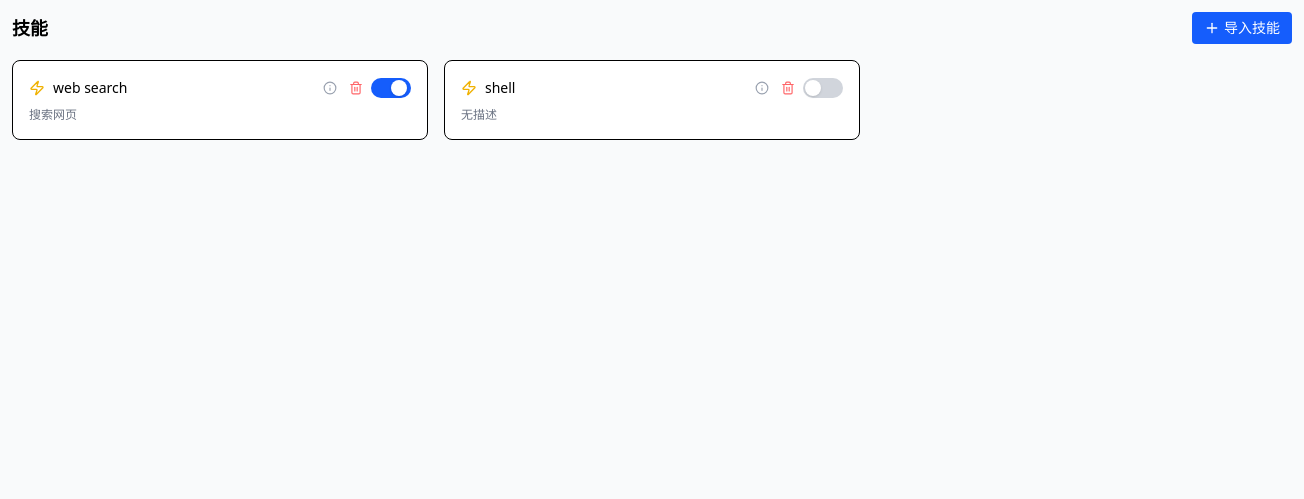
Skills 页 › 路径为空时导入按钮不可点
This screenshot has width=1304, height=499.
What coordinates should you click on to do the following:
click the button "导入技能"
I would click on:
 (1242, 28)
Its box is 1192,12 -> 1292,44.
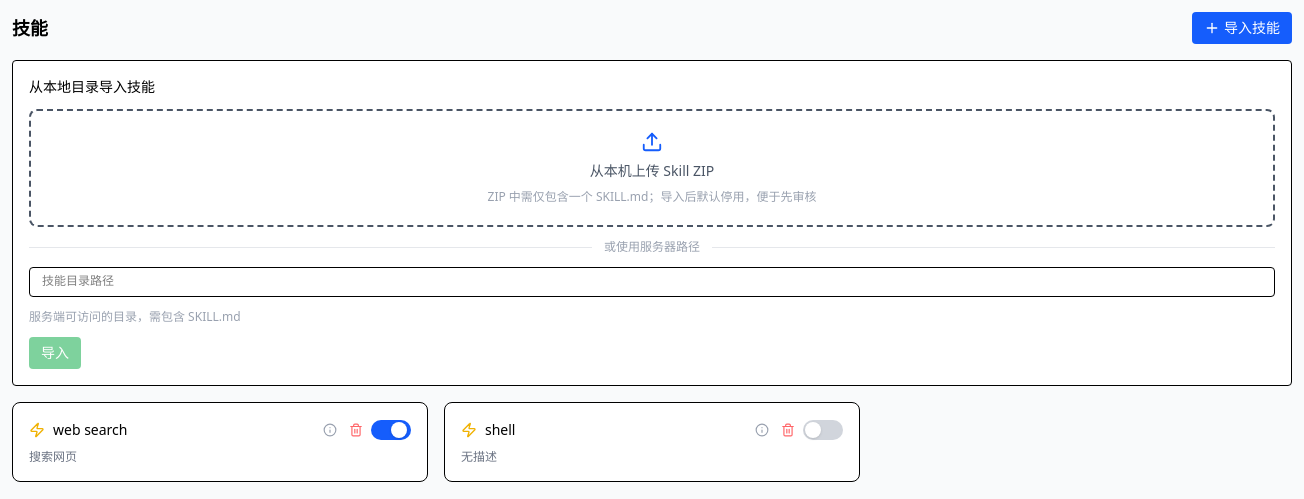
Now the button "导入" is disabled, box 29,337 -> 81,369
